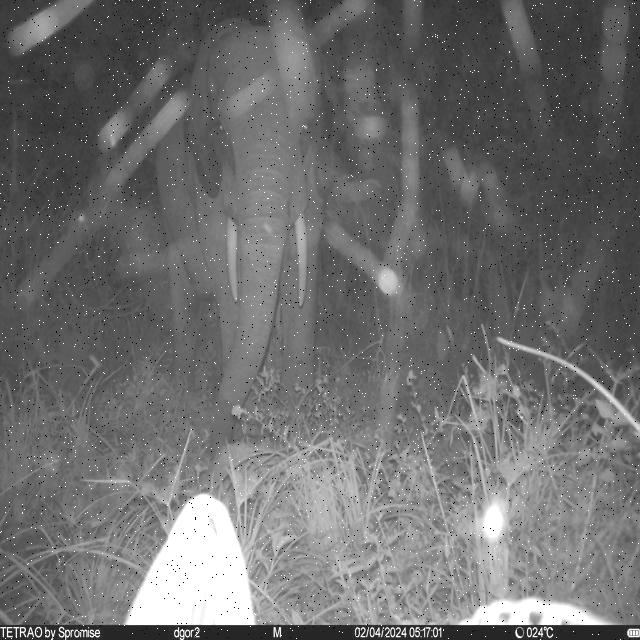ear: (187, 18, 256, 200)
elephant: (152, 17, 336, 464)
tusk: (292, 212, 310, 308), (225, 214, 242, 303)
